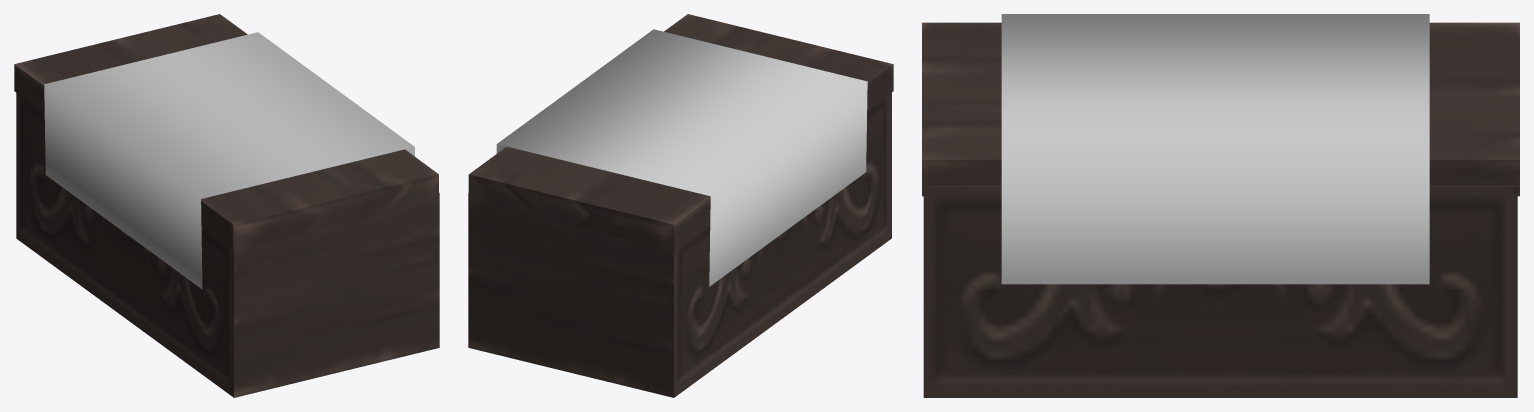
Rendered from furniture.FBX.
3 renders of one model, left to right at view 1: azimuth 30°, elevation 25°; view 2: azimuth 150°, elevation 25°; view 3: azimuth 270°, elevation 25°, orthographic. The views are drawn at different scales.
Parts seen in each view (by area): view 1: furniture; view 2: furniture; view 3: furniture.
Part boxes in pixels (box(x1,y1,x2,y2)): furniture: box(14, 14, 439, 397); furniture: box(468, 14, 893, 397); furniture: box(922, 14, 1519, 397).
Size of the model in its own units: 107 by 85.73 by 190.
